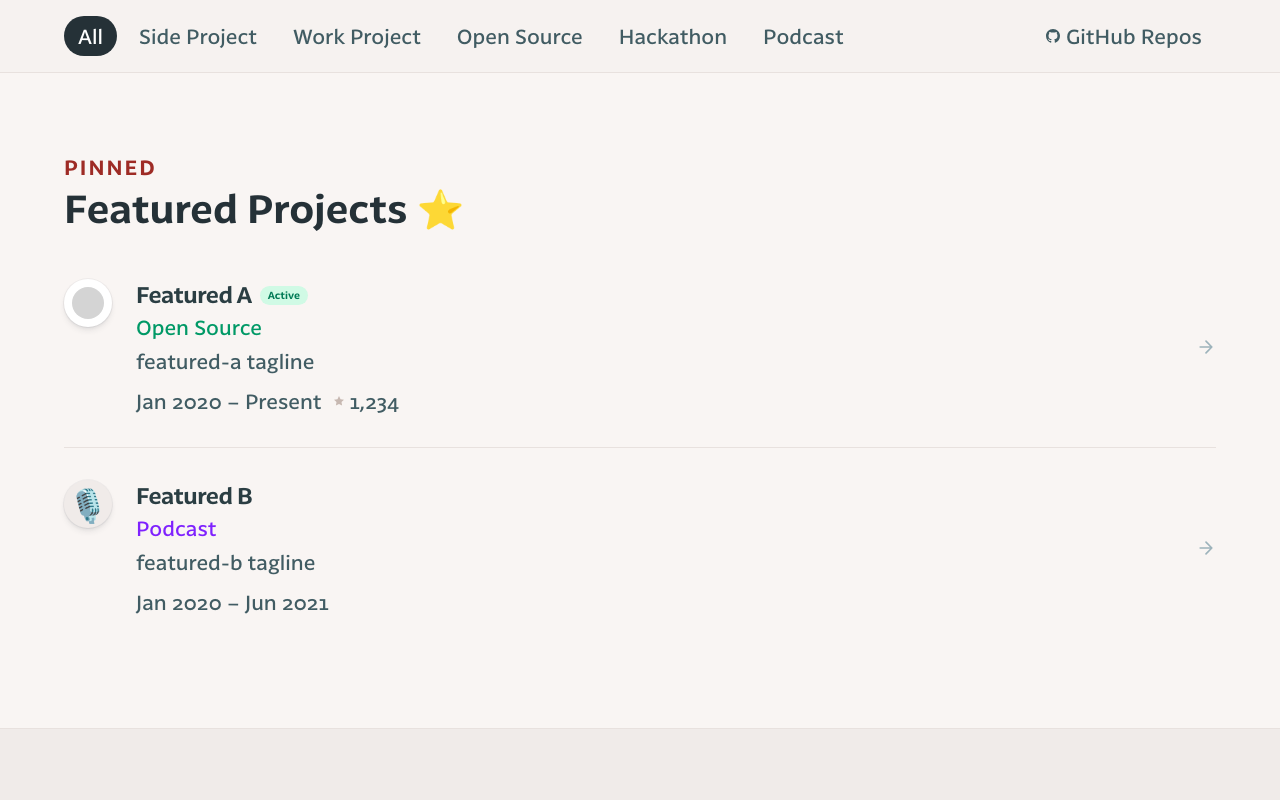
Test: ProjectsGridClient › combines the GitHub toggle with category tabs and reports when nothing matches
The width and height of the screenshot is (1280, 800).
Click the button "GitHub Repos".
click(1124, 36)  # box [1032,16,1216,56]
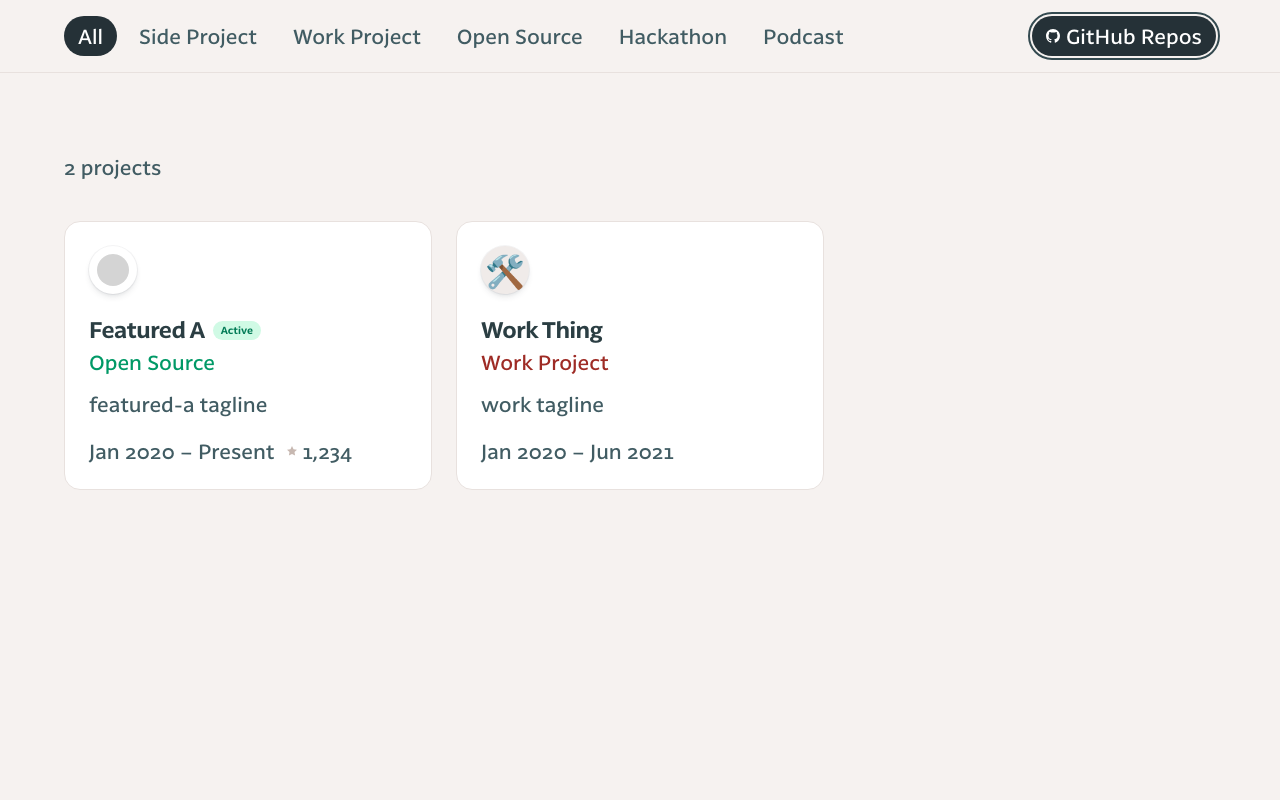
Expected: the text "2 projects" is shown, [64,155,161,179]
Click the button "Podcast".
click(803, 36)  # box [749,16,858,56]
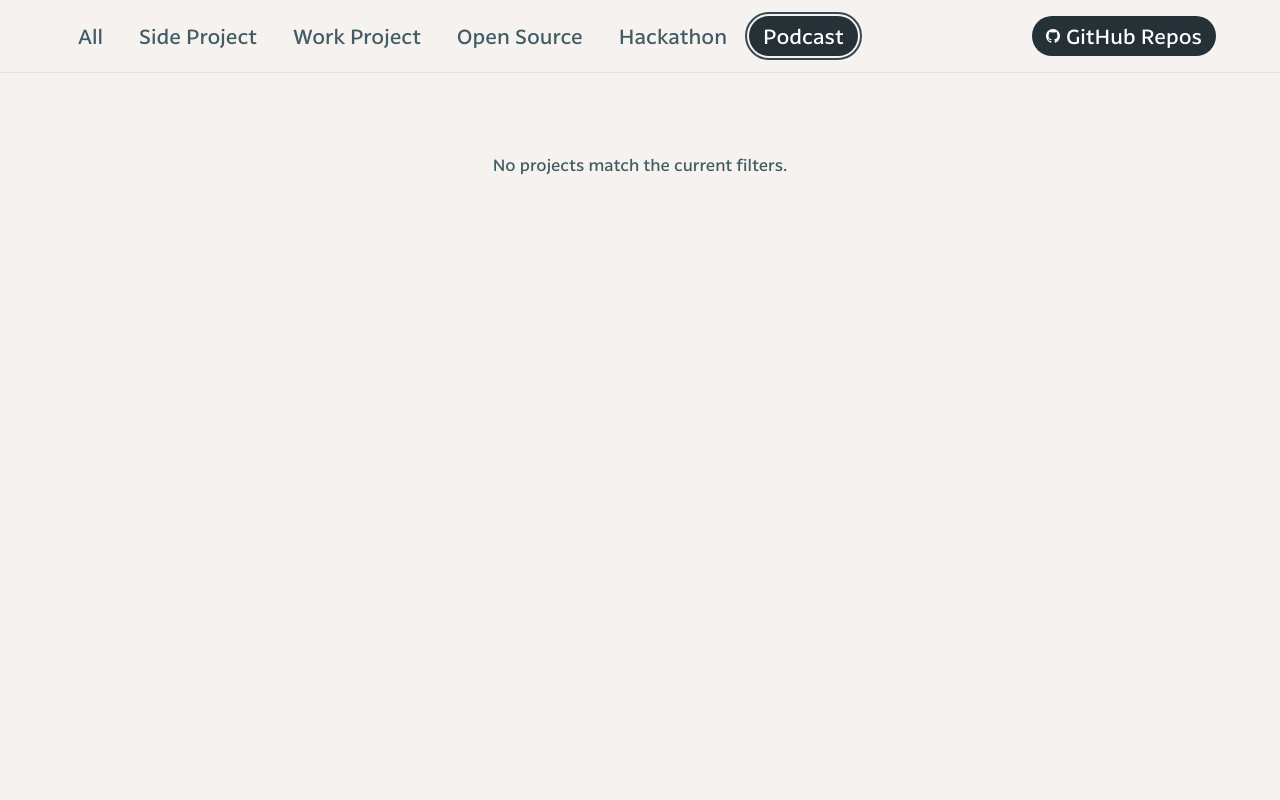
Expected: the text "No projects match the current filters." is shown, [493,155,787,174]
